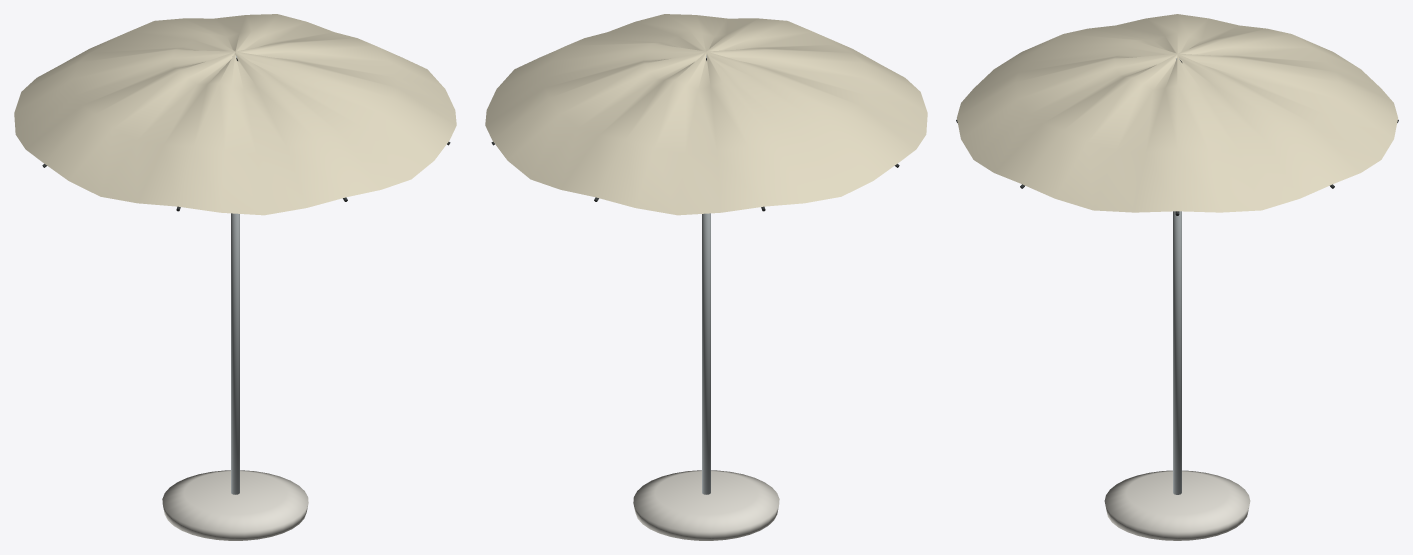
Rendered from terrace_parasol.glb.
3 views of the same model, side by side, from view 1: azimuth 30°, elevation 25°; view 2: azimuth 150°, elevation 25°; view 3: azimuth 270°, elevation 25° (orthographic).
Parts seen in each view (by area): view 1: terrace_parasol_Terrace_canvas, terrace_parasol_Honed_solid_surface, terrace_parasol_Brushed_stainless.001; view 2: terrace_parasol_Terrace_canvas, terrace_parasol_Honed_solid_surface, terrace_parasol_Brushed_stainless.001; view 3: terrace_parasol_Terrace_canvas, terrace_parasol_Honed_solid_surface, terrace_parasol_Brushed_stainless.001.
Part boxes in pixels (x1,y1,x2,y2): terrace_parasol_Terrace_canvas: (14, 14, 456, 215); terrace_parasol_Honed_solid_surface: (162, 470, 308, 540); terrace_parasol_Brushed_stainless.001: (231, 56, 239, 494); terrace_parasol_Terrace_canvas: (485, 14, 927, 215); terrace_parasol_Honed_solid_surface: (633, 470, 779, 540); terrace_parasol_Brushed_stainless.001: (702, 55, 710, 494); terrace_parasol_Terrace_canvas: (957, 14, 1397, 212); terrace_parasol_Honed_solid_surface: (1104, 470, 1250, 540); terrace_parasol_Brushed_stainless.001: (1173, 58, 1181, 494).
Size of the model in its own units: 2.25 by 2.56 by 2.25.
